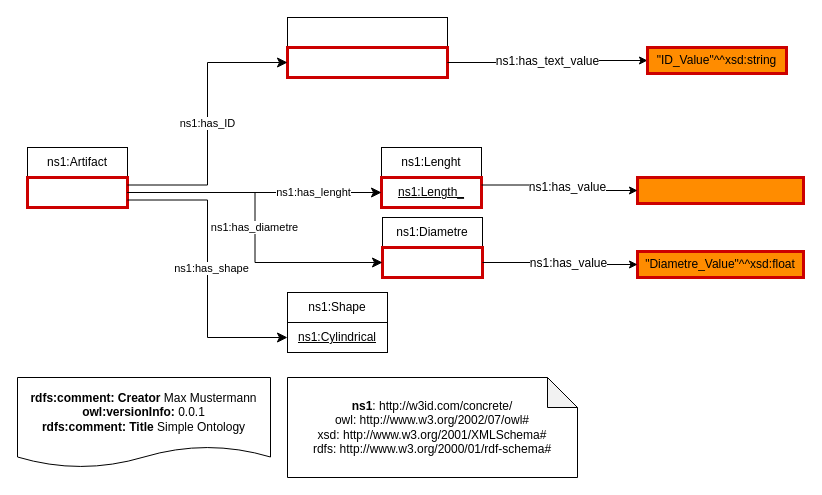
The diagram is 822 pixels wide and 495 high, and some of its shapes have lost their labels. The centre of each missing label's shape, as x and y in pixels:
"Length_Value"^^xsd:float: pixel 720 190
ns1:Diametre_: pixel 432 262
ns1:ID_: pixel 367 62
ns1:NonNameIdentifier: pixel 367 32
ns1:Probe_: pixel 77 192
